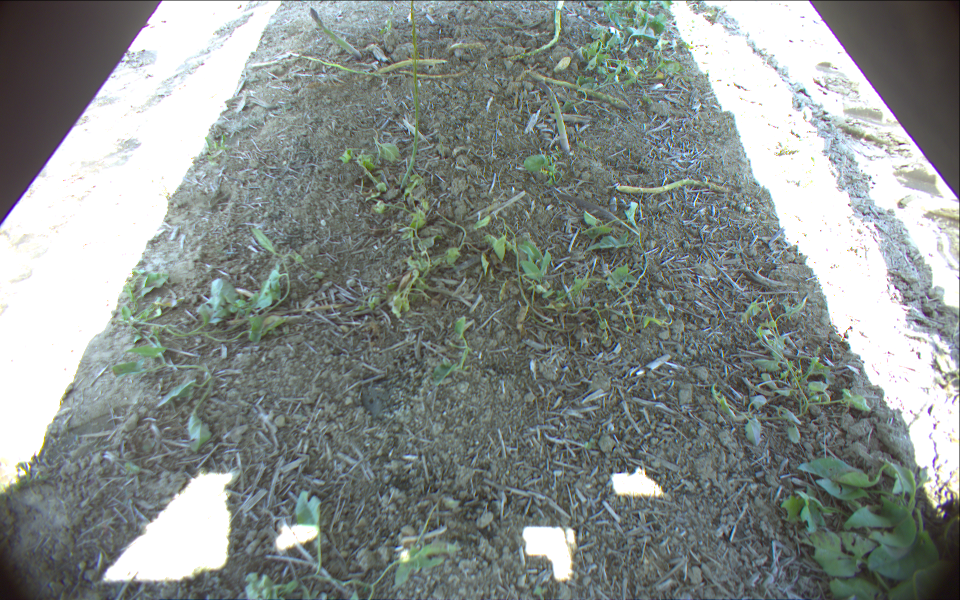aspa: (526, 71, 633, 109), (400, 1, 421, 188), (502, 1, 565, 62), (286, 51, 381, 80), (311, 8, 357, 55), (617, 177, 729, 194), (548, 87, 570, 153), (381, 57, 445, 74)
